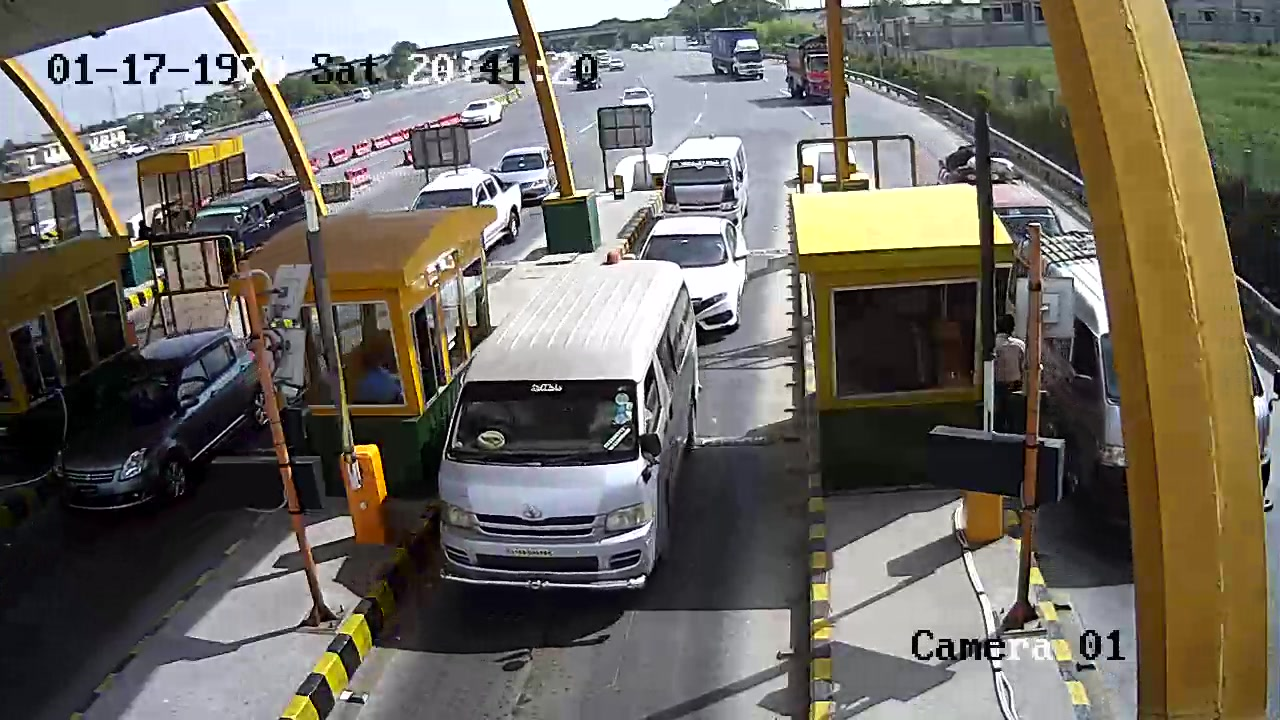F3: (418, 247, 722, 650)
